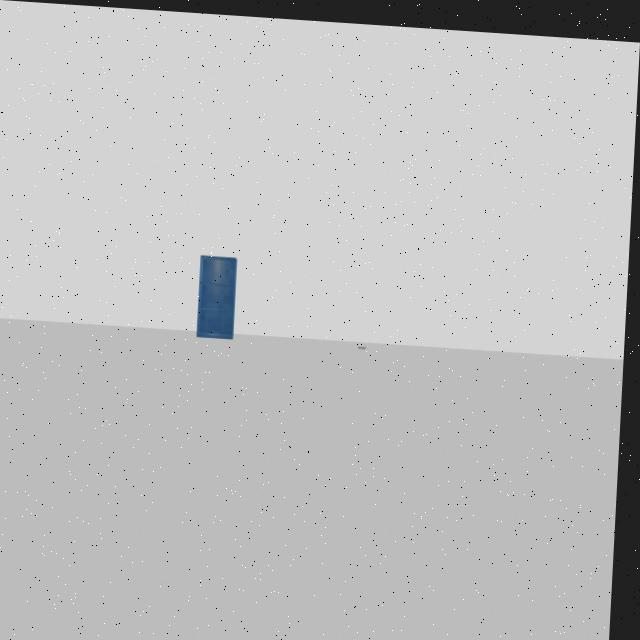bowl: (349, 337, 373, 344)
shelf: (195, 244, 250, 352)
